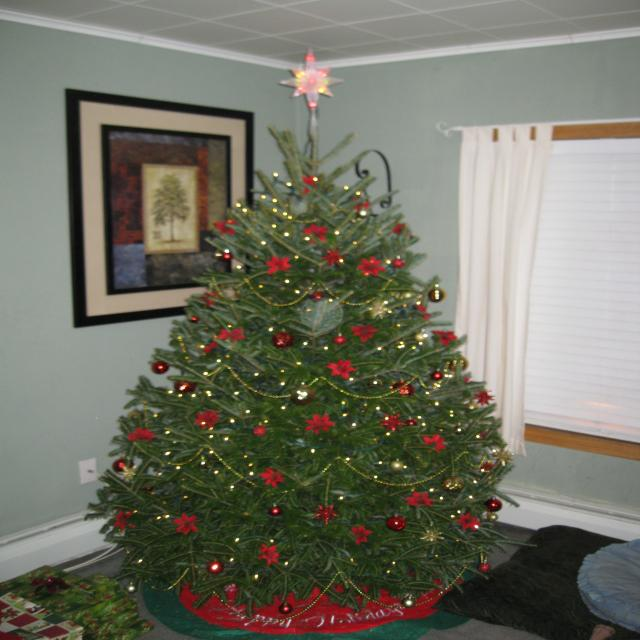Christmas-tree: (231, 39, 496, 570)
